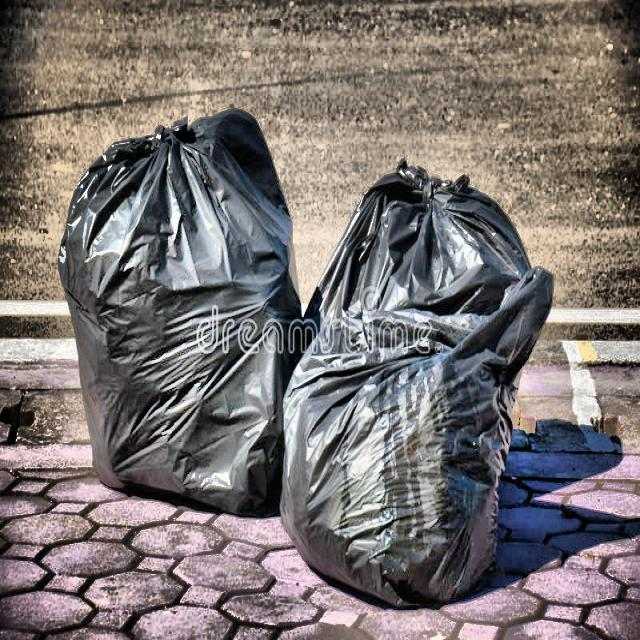Trashbag: (295, 153, 561, 595), (70, 103, 314, 499)
